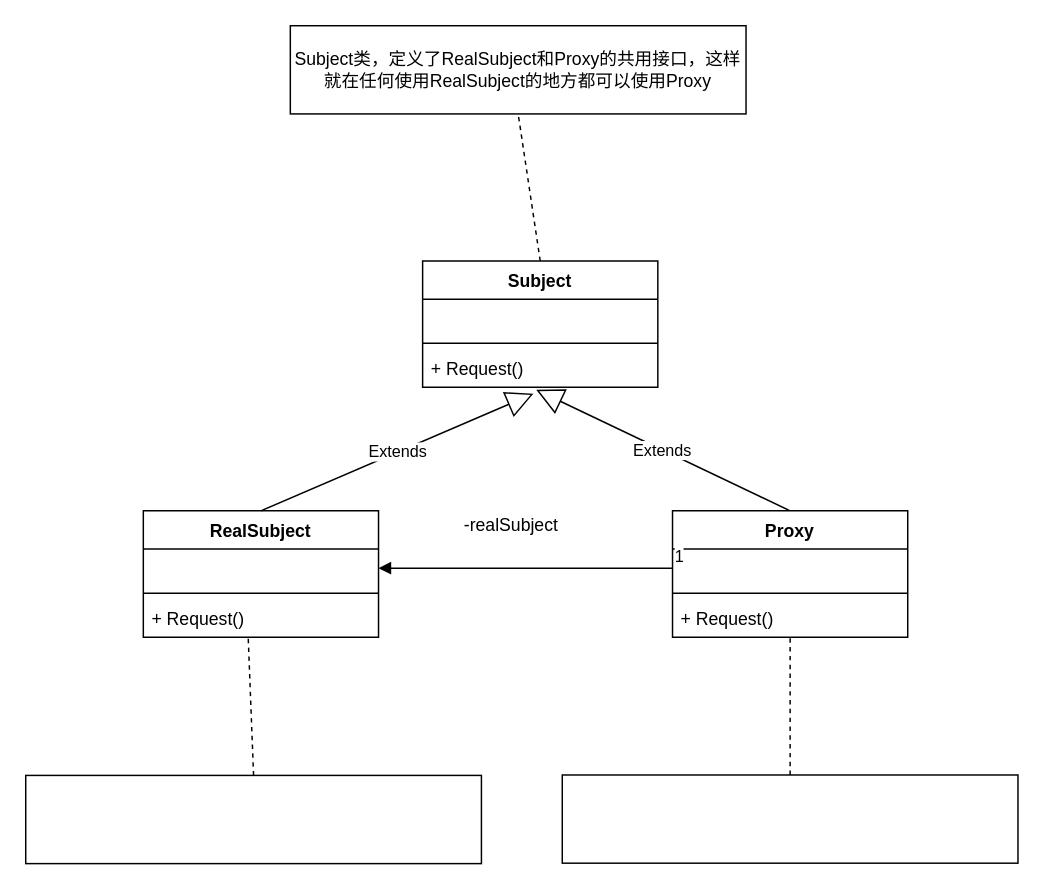
This 1044x889 diagram has some shape labels left out. The shapes that lost their labels are listed below. From the top down, each one's box as (x1, y1, x2, y2) in pixels, then its label:
(24, 774, 481, 864): RealSubject 类，定义Proxy 所代表的真实实体
(561, 774, 1018, 863): Proxy类，保存一个引用使得代理可以访问实体，并提供一个与Subject的接口相同的接口，这样代理就可以用来替代实体
